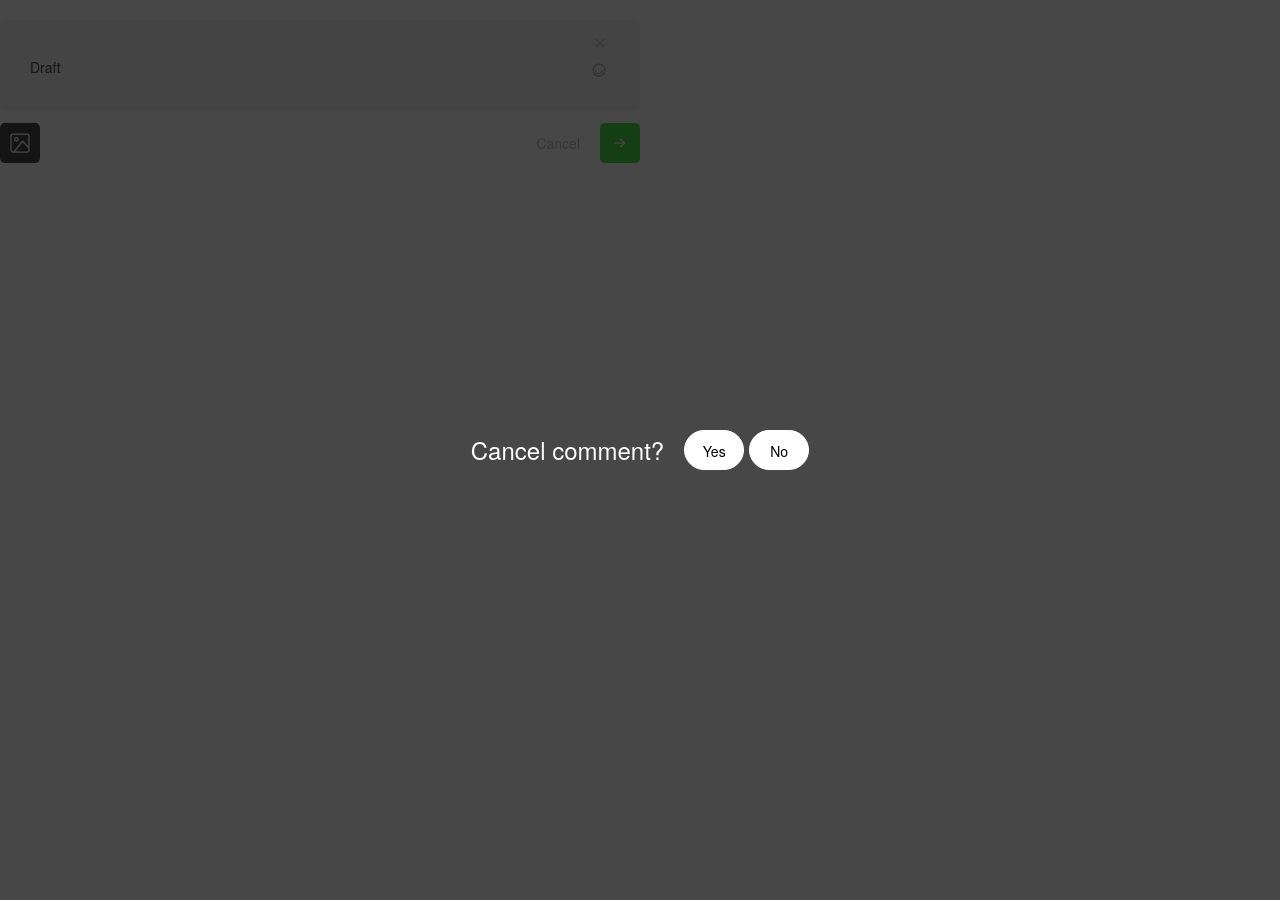
it: CommentForm cancel › asks "Cancel comment?" and only then empties the editor and tells the owner
Earlier steps of the test are not shown.
Click the button "Yes": (714, 450) x1=684 y1=430 x2=744 y2=470
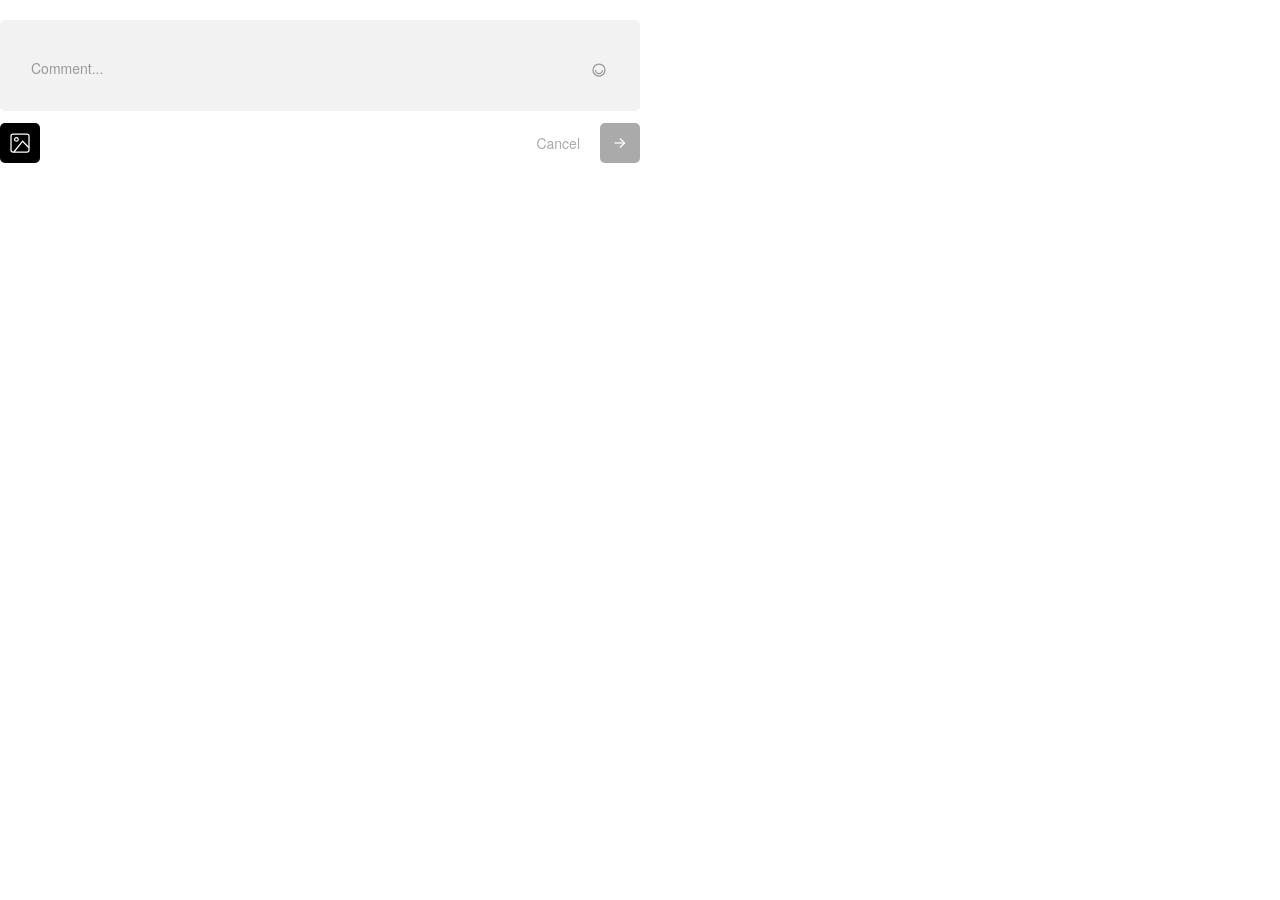
Now the dialog is gone
Now the text box named "Comment" is empty, box x1=30 y1=20 x2=610 y2=111
